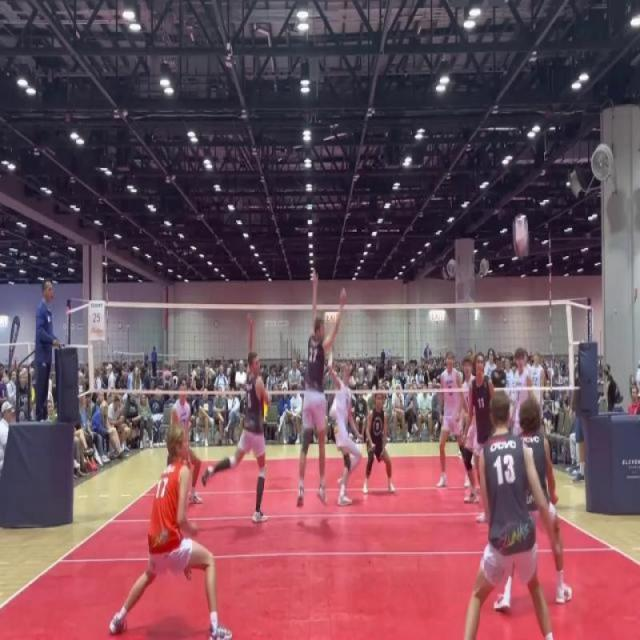volleyball: (511, 212, 532, 260)
